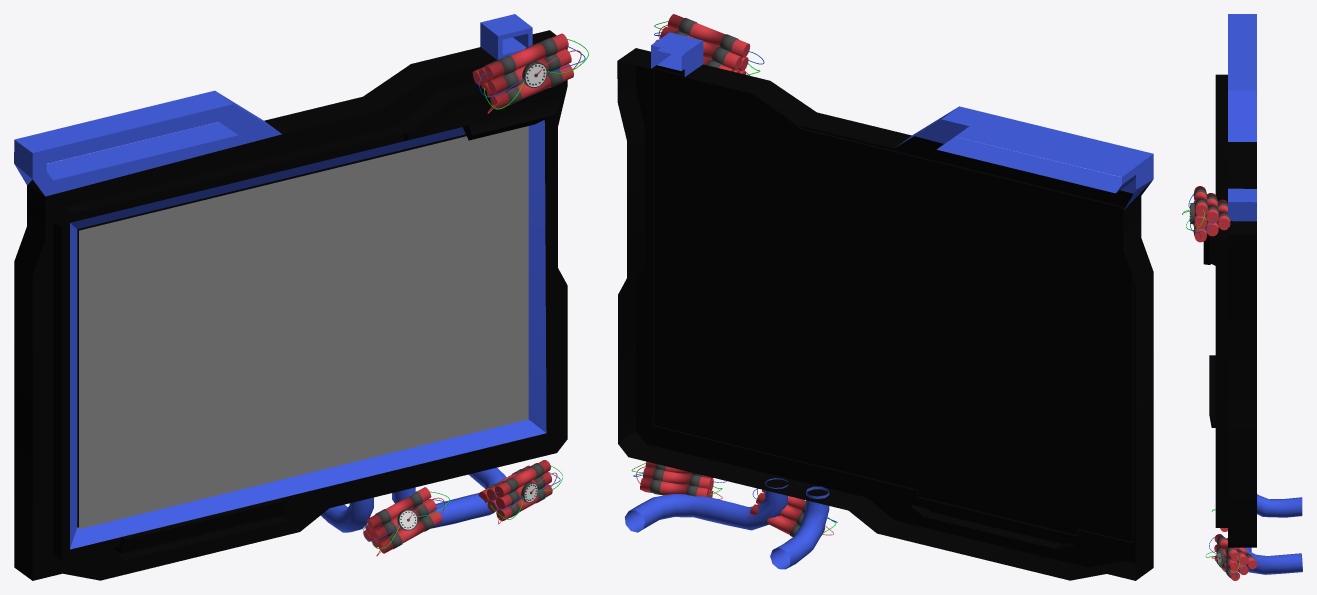
Rendered from Screen_With_Bomb.fbx.
The picture shows the model from 3 angles, left to right: view 1: azimuth 30°, elevation 25°; view 2: azimuth 150°, elevation 25°; view 3: azimuth 270°, elevation 25°; orthographic projection. The views are drawn at different scales.
Parts seen in each view (by area): view 1: Ekran, Bomb.003, Bomb.001, Bomb.002; view 2: Ekran, Bomb.003, Bomb.002, Bomb.001; view 3: Ekran, Bomb.003, Bomb.002.
Part boxes in pixels (<box>): Ekran: <box>14,14,567,580</box>; Bomb.003: <box>472,33,588,113</box>; Bomb.001: <box>363,487,449,556</box>; Bomb.002: <box>478,460,562,524</box>; Ekran: <box>617,32,1153,580</box>; Bomb.003: <box>654,14,764,75</box>; Bomb.002: <box>631,461,726,499</box>; Bomb.001: <box>750,488,837,536</box>; Ekran: <box>1203,14,1302,574</box>; Bomb.003: <box>1182,186,1230,242</box>; Bomb.002: <box>1205,534,1257,580</box>.
Bounding box in the file's own units: 155 × 135 × 38.92.
